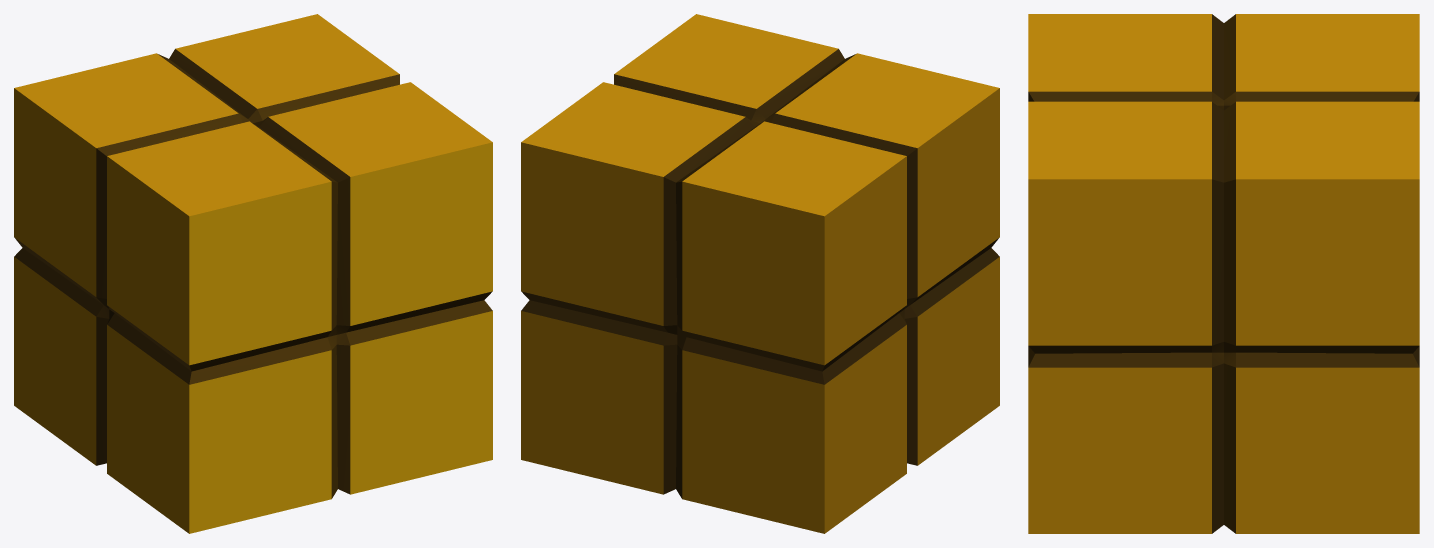
Rendered from StickyCube.FBX.
3 views of the same model, side by side, from view 1: azimuth 30°, elevation 25°; view 2: azimuth 150°, elevation 25°; view 3: azimuth 270°, elevation 25° (orthographic). The views are drawn at different scales.
Parts seen in each view (by area): view 1: CuboSticky; view 2: CuboSticky; view 3: CuboSticky.
Boxes of the visible parts, x1,y1,x2,y2 form: CuboSticky: (14,14,492,533); CuboSticky: (521,14,999,533); CuboSticky: (1028,14,1419,533).
Size of the model in its own units: 1 by 1 by 1.
